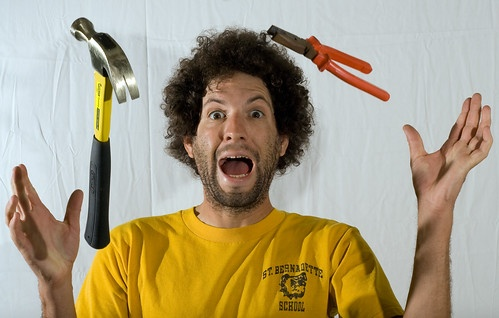hammer: (68, 18, 142, 250)
